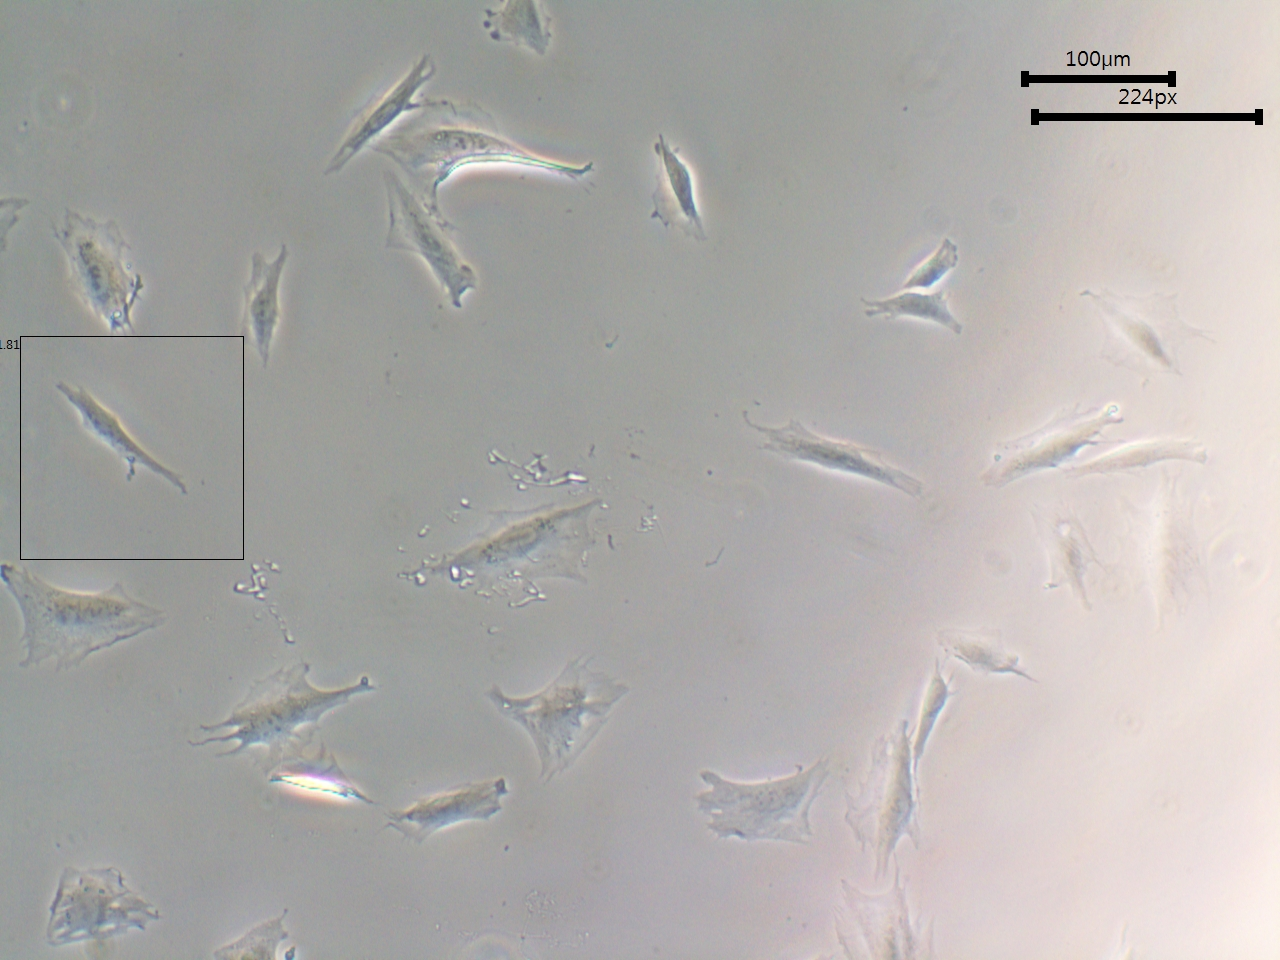dividing: (682, 746, 842, 854)
medium-polygonal: (400, 486, 619, 608), (731, 391, 955, 509), (966, 384, 1133, 505), (51, 373, 201, 508), (1, 565, 178, 672), (177, 670, 401, 750), (312, 47, 442, 177), (644, 126, 712, 248)
medium-spread: (477, 649, 644, 776)
small-polygonal: (1076, 278, 1219, 377), (385, 777, 514, 853), (938, 614, 1040, 687), (246, 241, 293, 371), (853, 287, 970, 339), (912, 659, 959, 779), (888, 230, 975, 293)
small-spread: (40, 198, 164, 331), (35, 857, 169, 954)
